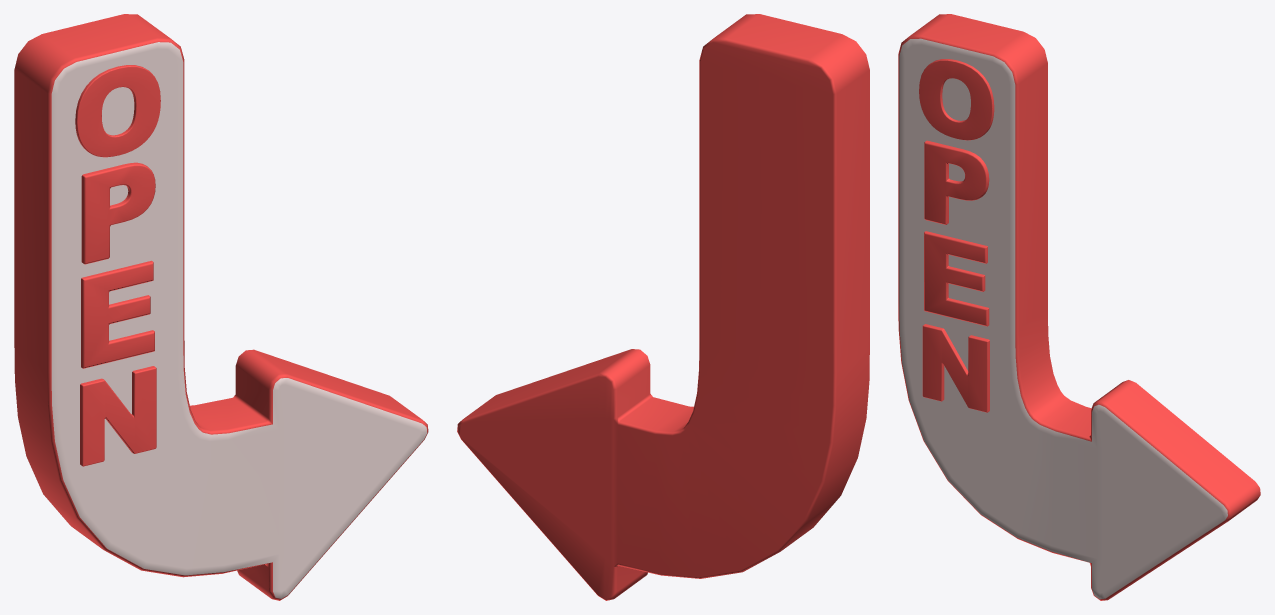
File: Store_16_Open_Sign_1.glb
The picture shows the model from 3 angles, left to right: view 1: azimuth 30°, elevation 25°; view 2: azimuth 150°, elevation 25°; view 3: azimuth 330°, elevation 25°; orthographic projection. The views are drawn at different scales.
Parts seen in each view (by area): view 1: Store_16_Open_Sign_1; view 2: Store_16_Open_Sign_1; view 3: Store_16_Open_Sign_1.
Part boxes in pixels (x1,y1,x2,y2): Store_16_Open_Sign_1: (14, 14, 428, 600); Store_16_Open_Sign_1: (457, 14, 869, 600); Store_16_Open_Sign_1: (898, 14, 1260, 600).
Size of the model in its own units: 1.3 by 1.94 by 0.2286.
1 material, 1 textured.
